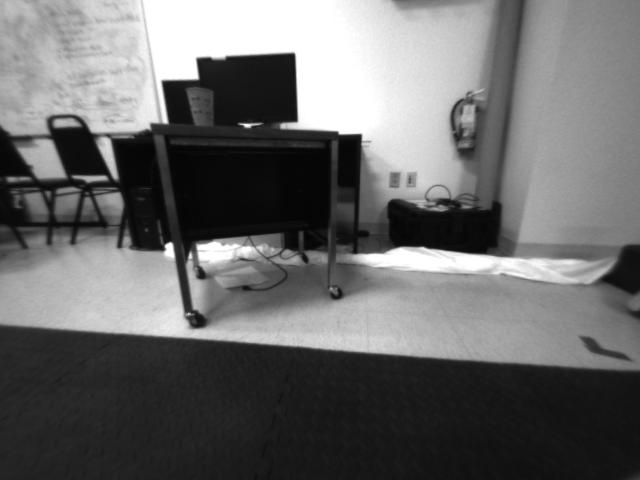coffee_cup: (183, 86, 219, 127)
